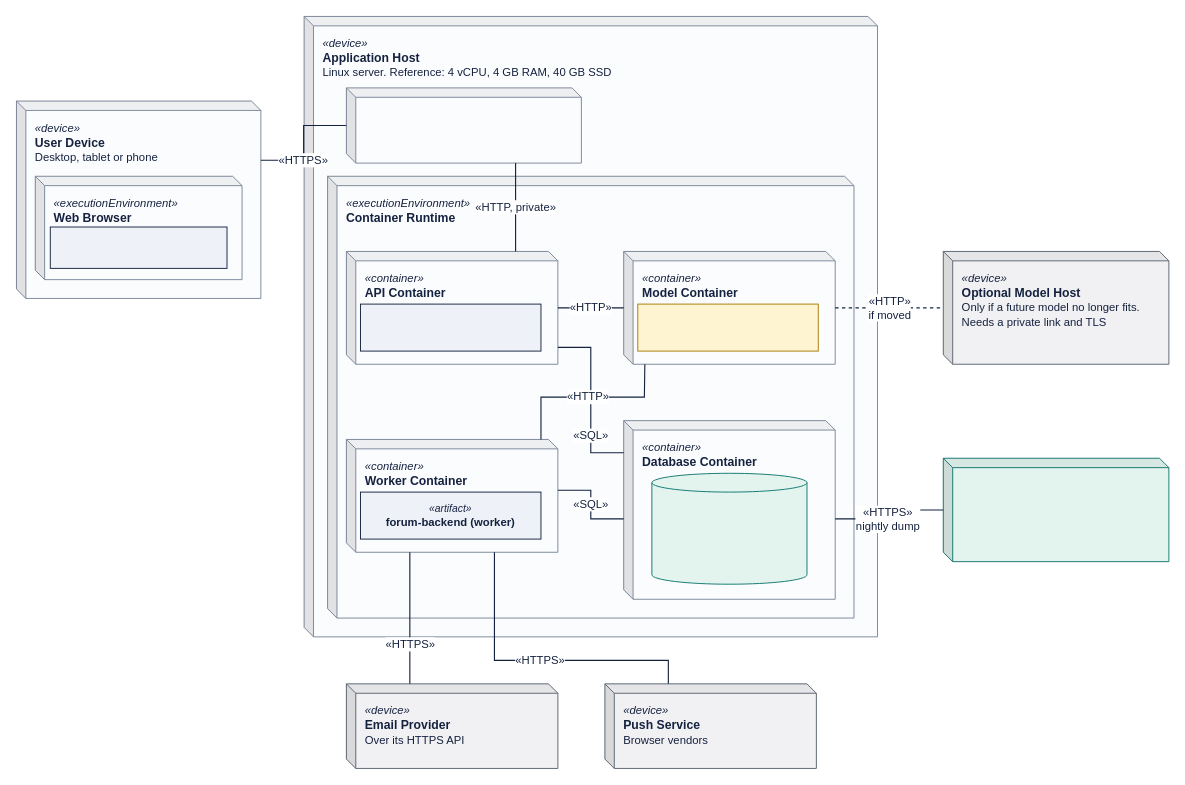
The diagram is 1185 pixels wide and 785 high, and some of its shapes have lost their labels. The centre of each missing label's shape, as x and y in pixels:
"Forum Database On a persistent volume" goes at pixel 729 528.
"«artifact» forum-backend (API mode)" goes at pixel 450 327.
"«artifact» scoring-service image" goes at pixel 727 327.
"«artifact» web-client bundle" goes at pixel 138 247.
"«device» Off-site Backup Storage Nightly dump, restore tested" goes at pixel 1055 509.
"«executionEnvironment» Reverse Proxy TLS 1.2+, serves the web client" goes at pixel 463 125.
